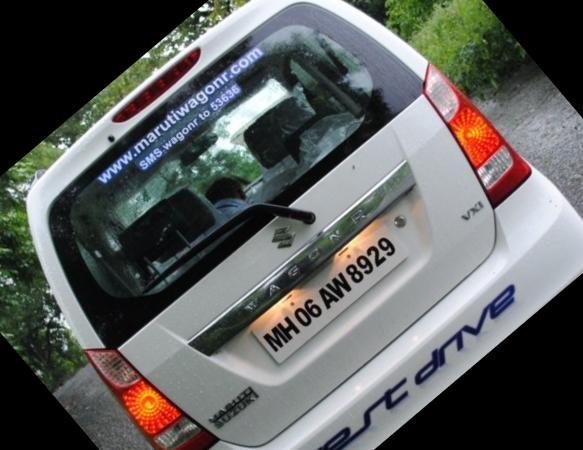plate: (229, 186, 442, 382)
